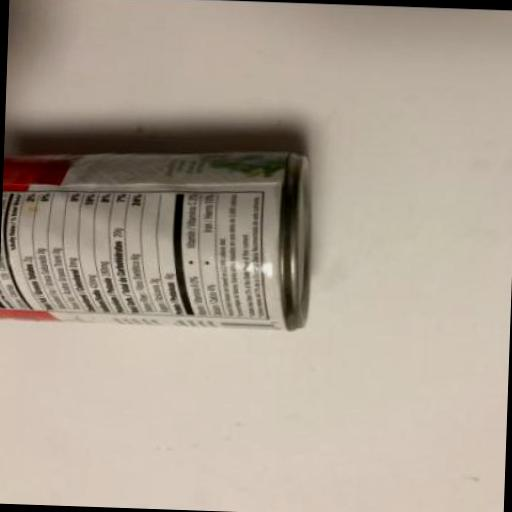metal: (0, 140, 314, 333)
